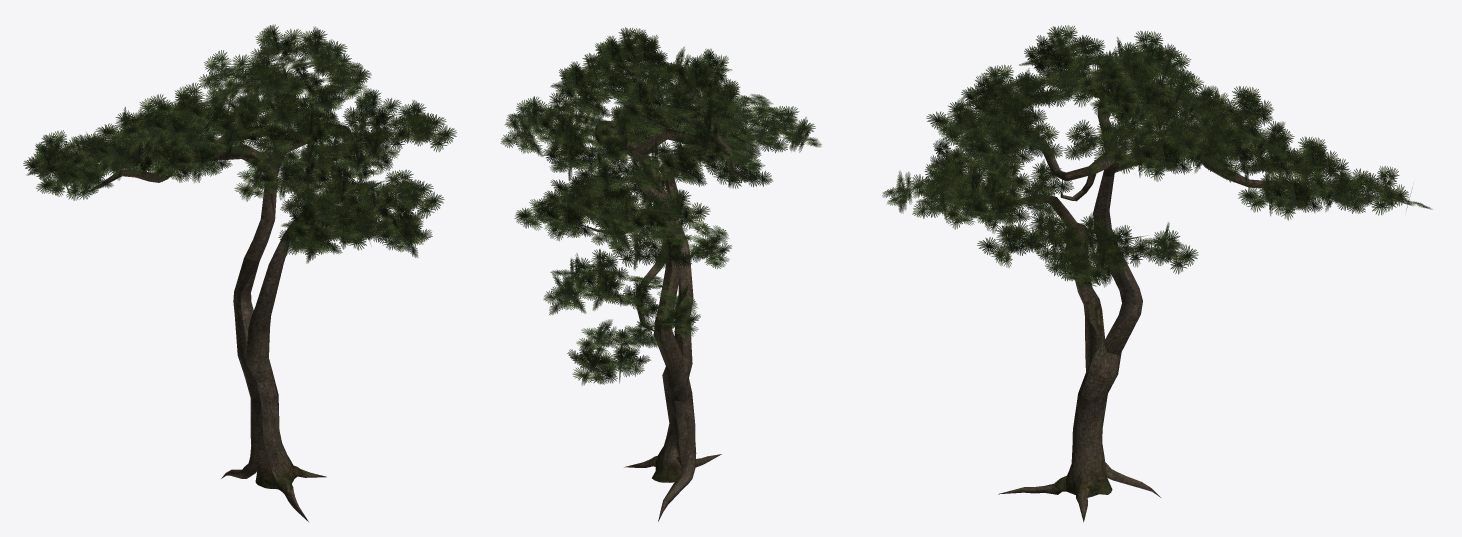
The model's file is pine_tree_low_poly.glb.
3 renders of one model, left to right at view 1: azimuth 30°, elevation 25°; view 2: azimuth 150°, elevation 25°; view 3: azimuth 270°, elevation 25°, orthographic. The views are drawn at different scales.
Visible parts, largest first — view 1: Object_2, Object_3; view 2: Object_2, Object_3; view 3: Object_2, Object_3.
Boxes of the visible parts, <box> form: Object_2: <box>23,24,456,263</box>; Object_3: <box>89,125,368,521</box>; Object_2: <box>500,27,821,385</box>; Object_3: <box>581,104,753,521</box>; Object_2: <box>882,25,1432,291</box>; Object_3: <box>998,90,1286,522</box>.
Size of the model in its own units: 2865 by 4348 by 4848.
2 materials, 2 textured.
